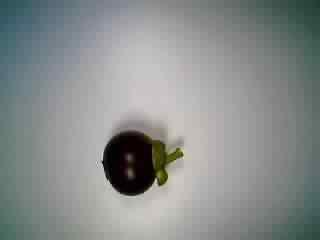mangosteen: (101, 126, 184, 197)
